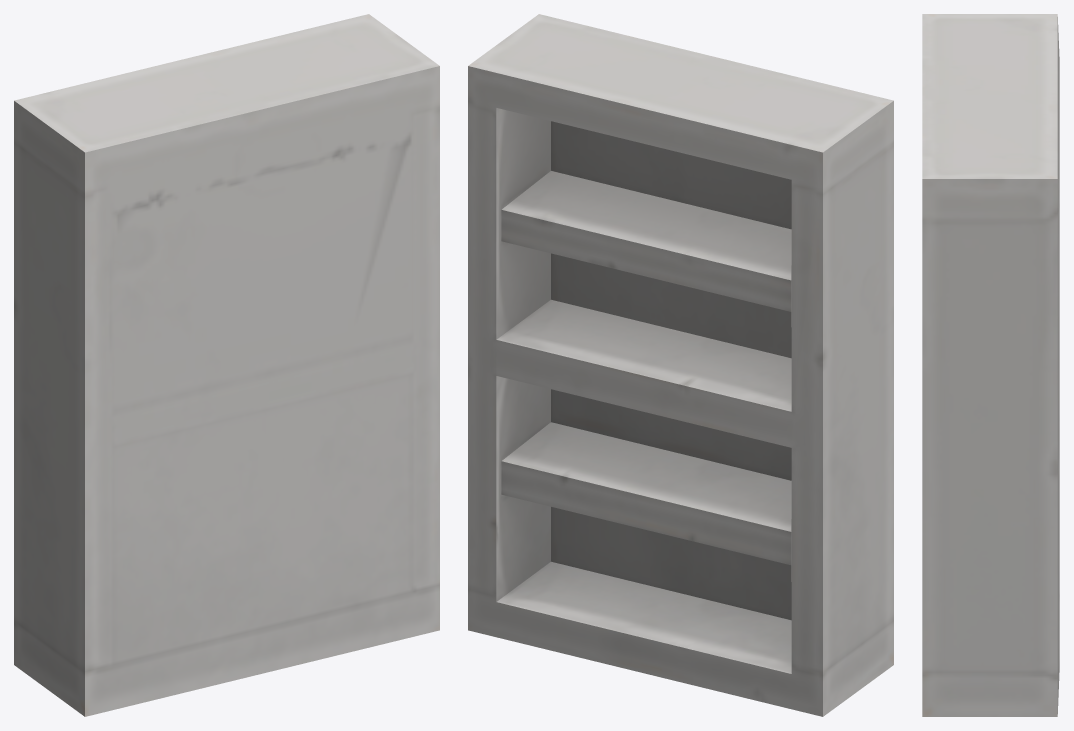
File: Pfb_Indoors_Study_Shelf__3.fbx
3 views of the same model, side by side, from view 1: azimuth 30°, elevation 25°; view 2: azimuth 150°, elevation 25°; view 3: azimuth 270°, elevation 25° (orthographic). The views are drawn at different scales.
Parts seen in each view (by area): view 1: Mat_Indoors_Study_01_2_JLAB; view 2: Mat_Indoors_Study_01_2_JLAB; view 3: Mat_Indoors_Study_01_2_JLAB.
Boxes of the visible parts, left/top/right/bottom form: Mat_Indoors_Study_01_2_JLAB: left=14, top=14, right=439, bottom=716; Mat_Indoors_Study_01_2_JLAB: left=468, top=14, right=893, bottom=716; Mat_Indoors_Study_01_2_JLAB: left=922, top=14, right=1059, bottom=716.
Size of the model in its own units: 1.77 by 2.68 by 0.6209.
1 material, 1 textured.
